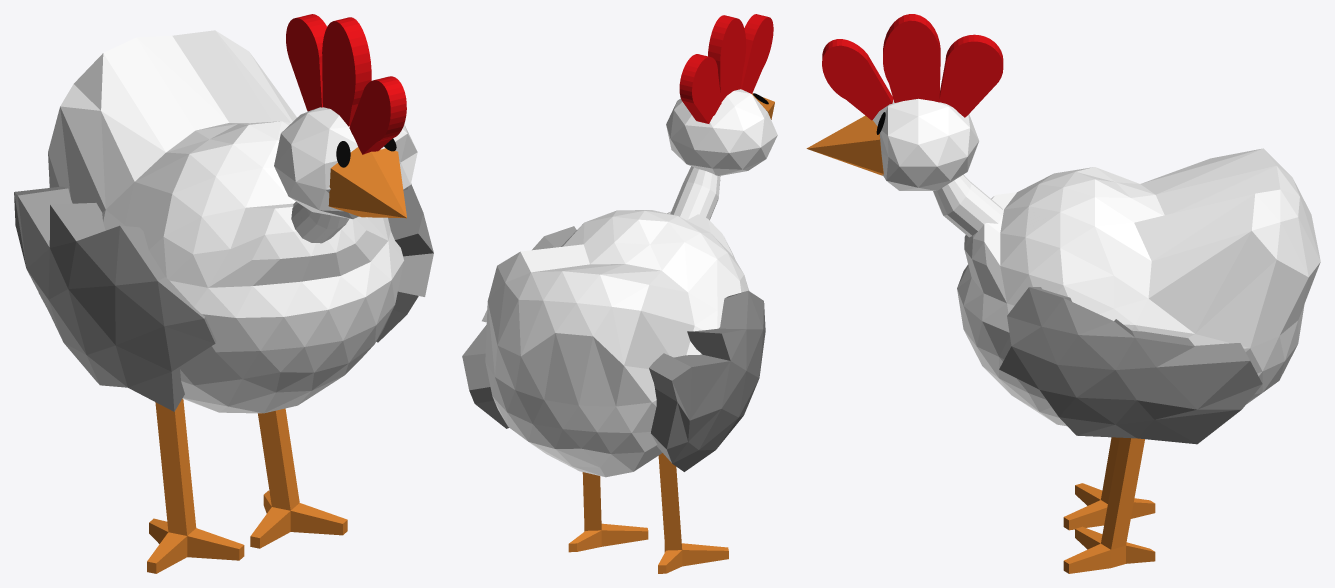
File: Cock.fbx
3 renders of one model, left to right at view 1: azimuth 30°, elevation 25°; view 2: azimuth 150°, elevation 25°; view 3: azimuth 270°, elevation 25°, orthographic. The views are drawn at different scales.
Parts seen in each view (by area): view 1: Icosphere; view 2: Icosphere; view 3: Icosphere.
Part boxes in pixels (<box>): Icosphere: <box>14,14,433,573</box>; Icosphere: <box>462,14,777,573</box>; Icosphere: <box>806,14,1320,573</box>.
Size of the model in its own units: 243 by 436 by 389.
